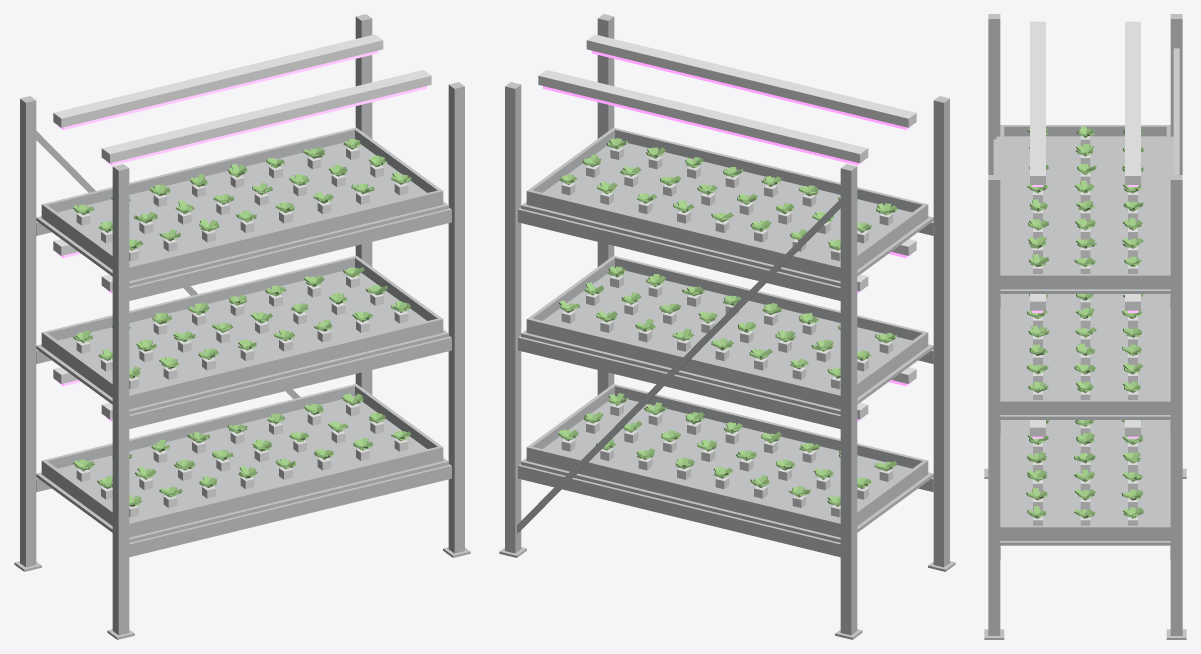
The model's file is vertical-farm-and-hydroponics-tower-vertical-farm-and--82348d72__38341.glb.
3 renders of one model, left to right at view 1: azimuth 30°, elevation 25°; view 2: azimuth 150°, elevation 25°; view 3: azimuth 270°, elevation 25°, orthographic.
Parts seen in each view (by area): view 1: vertical-farm-and-hydroponics-tower-grow-rack-bay-propagatio (×4), tray-mid/steel, tray-mid/leaf, tray-mid/panel; view 2: vertical-farm-and-hydroponics-tower-grow-rack-bay-propagatio (×4), tray-mid/steel, tray-mid/leaf, tray-mid/panel; view 3: vertical-farm-and-hydroponics-tower-grow-rack-bay-propagatio (×3), tray-mid/steel, tray-mid/leaf, tray-mid/panel.
Boxes of the visible parts, x1=… form: vertical-farm-and-hydroponics-tower-grow-rack-bay-propagatio (×4): x1=14, y1=14, x2=470, y2=639; tray-mid/steel: x1=41, y1=255, x2=443, y2=409; tray-mid/leaf: x1=73, y1=267, x2=410, y2=378; tray-mid/panel: x1=76, y1=276, x2=408, y2=389; vertical-farm-and-hydroponics-tower-grow-rack-bay-propagatio (×4): x1=499, y1=14, x2=955, y2=639; tray-mid/steel: x1=526, y1=255, x2=928, y2=409; tray-mid/leaf: x1=559, y1=266, x2=896, y2=378; tray-mid/panel: x1=561, y1=275, x2=893, y2=389; vertical-farm-and-hydroponics-tower-grow-rack-bay-propagatio (×3): x1=984, y1=14, x2=1186, y2=639; tray-mid/steel: x1=1000, y1=294, x2=1170, y2=414; tray-mid/leaf: x1=1027, y1=294, x2=1143, y2=392; tray-mid/panel: x1=1033, y1=299, x2=1137, y2=399.
Bounding box in the file's own units: 2.02 × 2.55 × 1.02.
